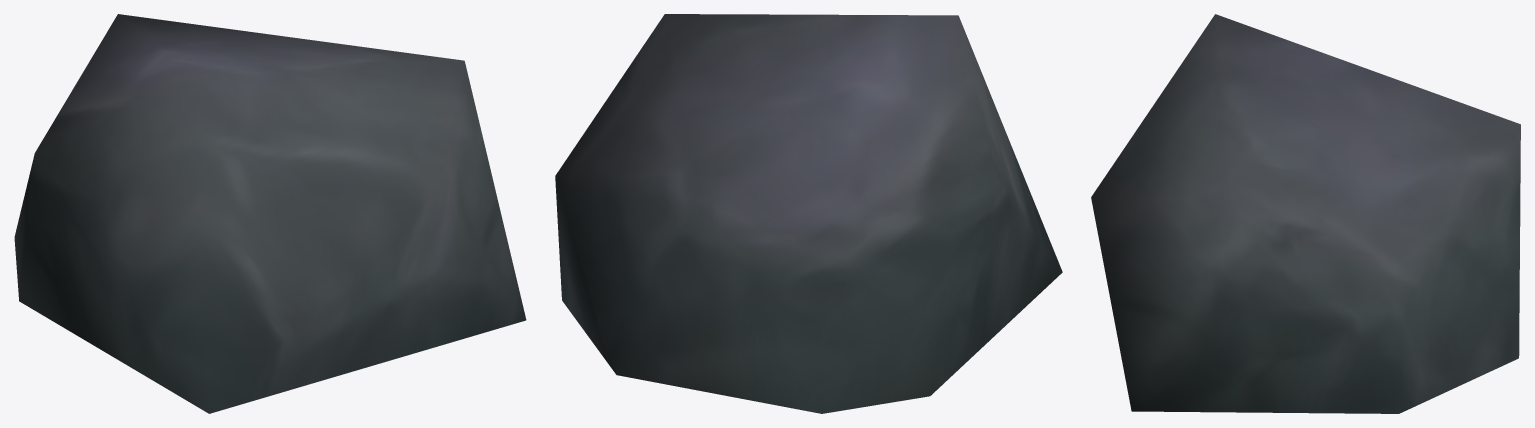
Rendered from TwistedJungle_Stone07.FBX.
The picture shows the model from 3 angles, left to right: view 1: azimuth 30°, elevation 25°; view 2: azimuth 150°, elevation 25°; view 3: azimuth 270°, elevation 25°; orthographic projection. The views are drawn at different scales.
Parts seen in each view (by area): view 1: TwistedJungle_Stone07; view 2: TwistedJungle_Stone07; view 3: TwistedJungle_Stone07.
Boxes of the visible parts, x1,y1,x2,y2 form: TwistedJungle_Stone07: [14, 14, 526, 413]; TwistedJungle_Stone07: [555, 14, 1062, 413]; TwistedJungle_Stone07: [1091, 14, 1520, 413].
Size of the model in its own units: 21.03 by 14.4 by 20.9.
